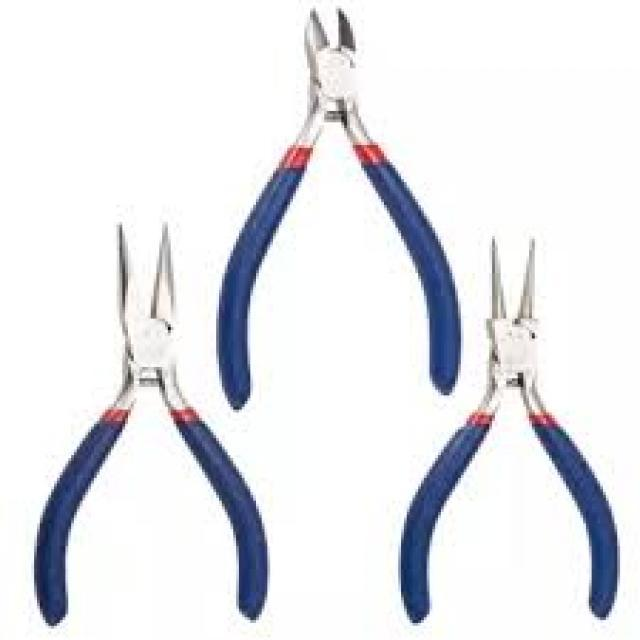pliers: (212, 4, 468, 408), (37, 210, 276, 630), (392, 225, 622, 625)
